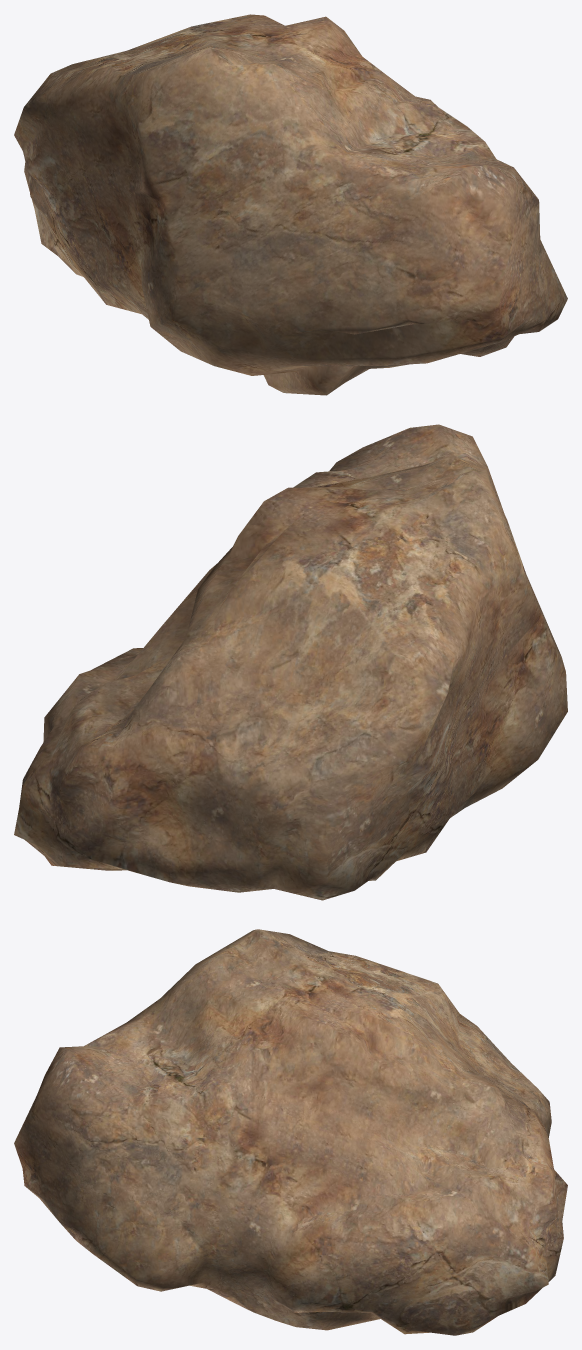
File: Rock_2.fbx
3 views of the same model, one above another, from view 1: azimuth 30°, elevation 25°; view 2: azimuth 150°, elevation 25°; view 3: azimuth 270°, elevation 25° (orthographic). The views are drawn at different scales.
Visible parts, largest first — view 1: Rock_2; view 2: Rock_2; view 3: Rock_2.
Part boxes in pixels (left/top/right/bottom): Rock_2: left=14, top=14, right=567, bottom=395; Rock_2: left=14, top=424, right=567, bottom=900; Rock_2: left=14, top=929, right=567, bottom=1335.
Bounding box in the file's own units: 314 × 284 × 460.
Materials: 1 (1 with a texture image).
